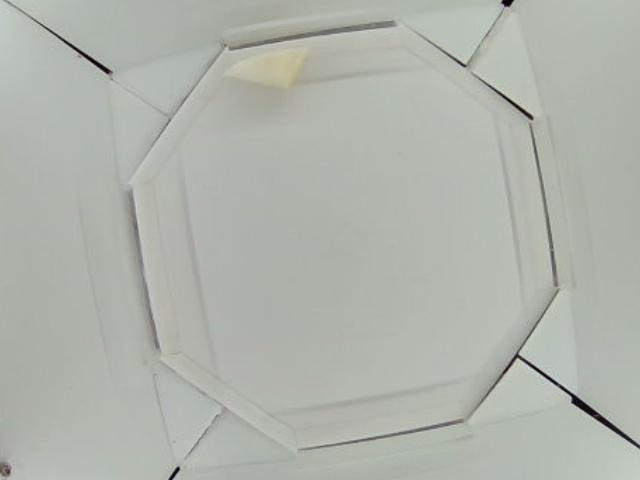Mooli: (225, 46, 308, 87)
